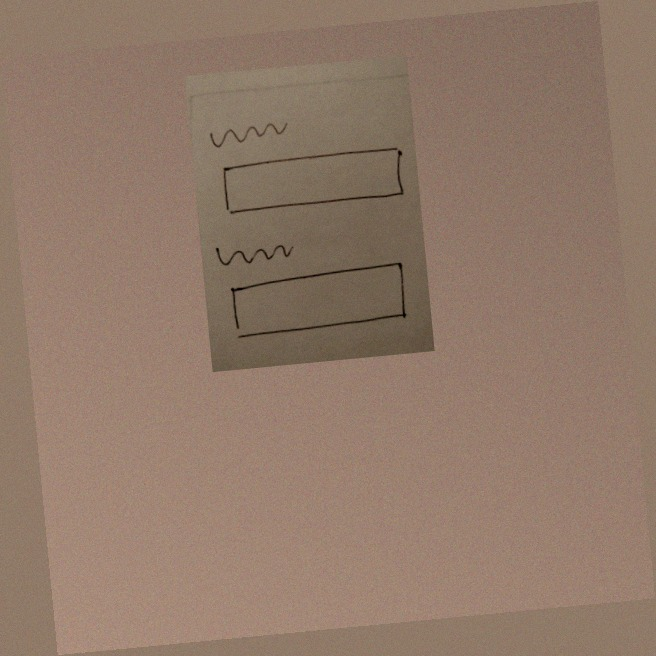text: (204, 112, 296, 155), (209, 234, 299, 273)
text_input: (222, 258, 418, 344), (215, 141, 413, 220)
